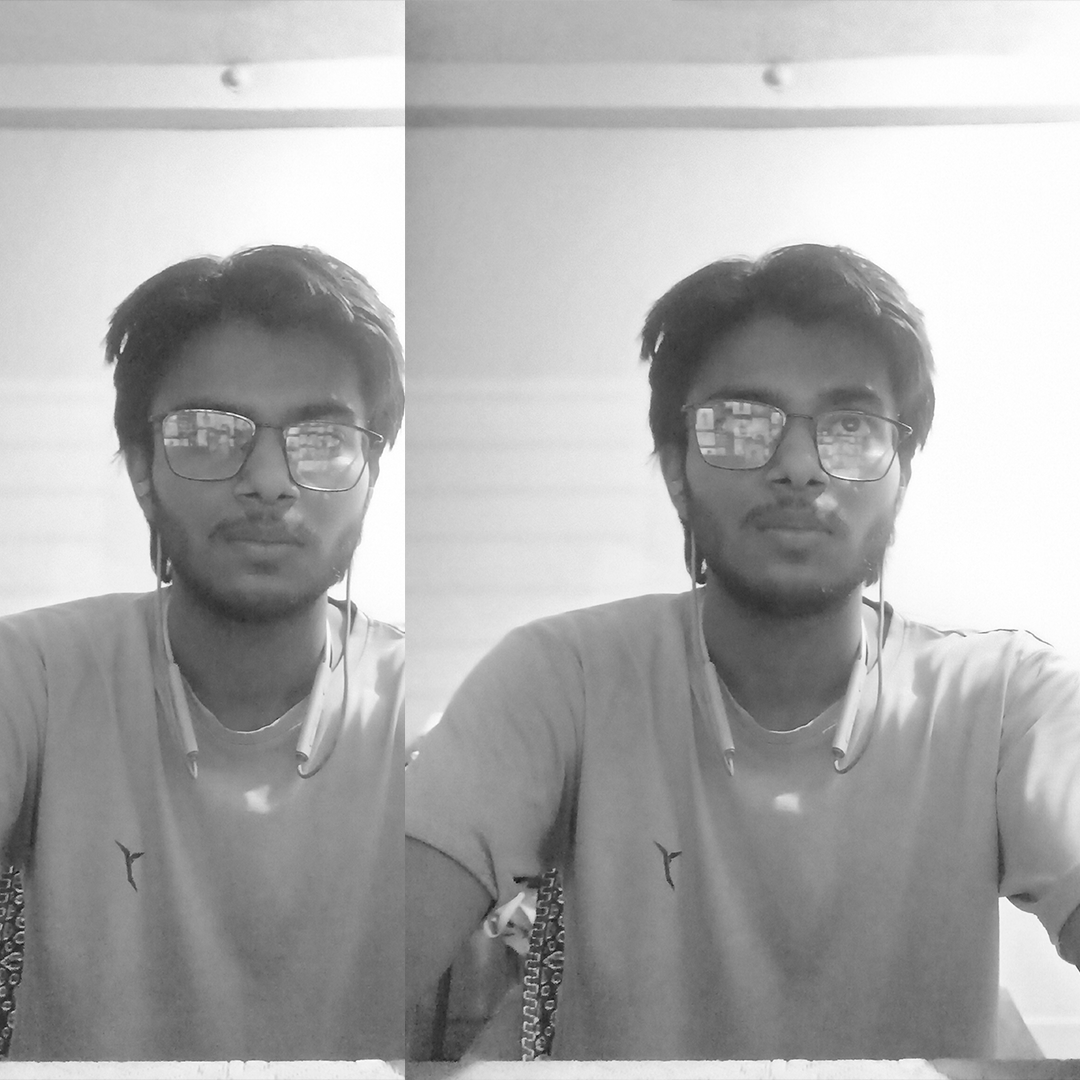Focused: (540, 108, 984, 696), (76, 164, 441, 688)
